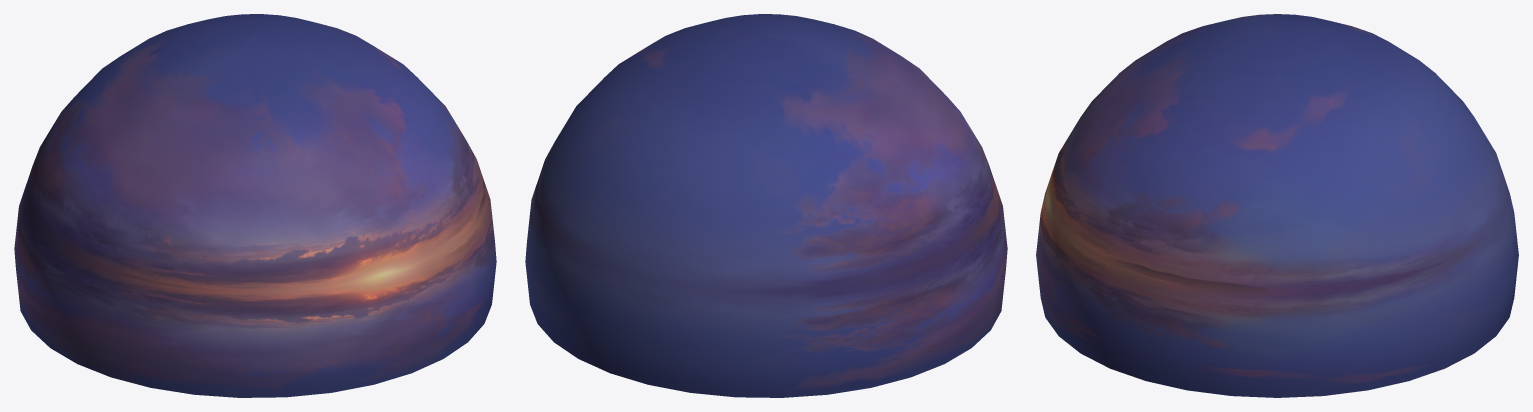
The model's file is Ht_tiankonghe_01.fbx.
3 views of the same model, side by side, from view 1: azimuth 30°, elevation 25°; view 2: azimuth 150°, elevation 25°; view 3: azimuth 270°, elevation 25° (orthographic).
Parts seen in each view (by area): view 1: Ht_tiankonghe_01; view 2: Ht_tiankonghe_01; view 3: Ht_tiankonghe_01.
Boxes of the visible parts, left/top/right/bottom form: Ht_tiankonghe_01: left=14, top=14, right=496, bottom=397; Ht_tiankonghe_01: left=525, top=14, right=1007, bottom=397; Ht_tiankonghe_01: left=1036, top=14, right=1518, bottom=397.
Size of the model in its own units: 288000 by 172093 by 288000.
